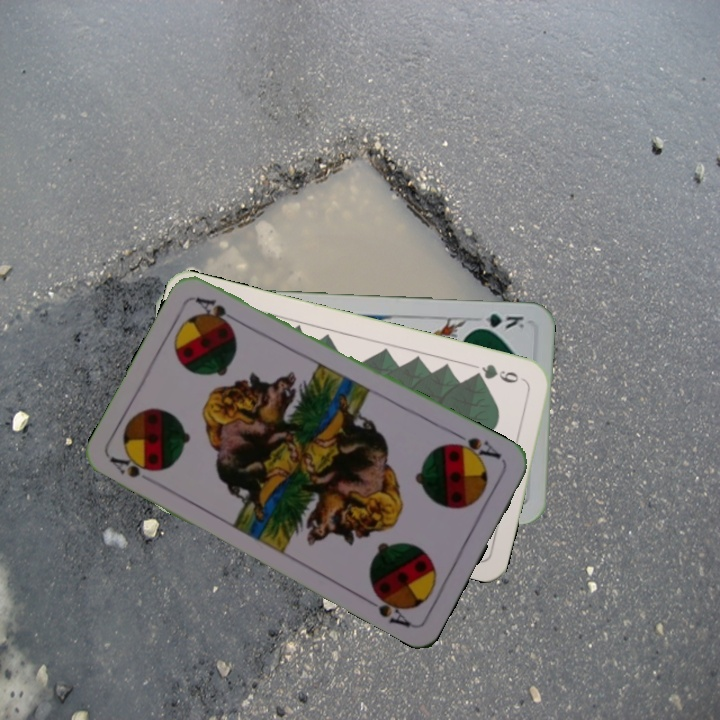G9: (468, 360, 522, 386)
GK: (470, 309, 527, 332)
SA: (446, 428, 504, 465), (106, 451, 159, 480)
